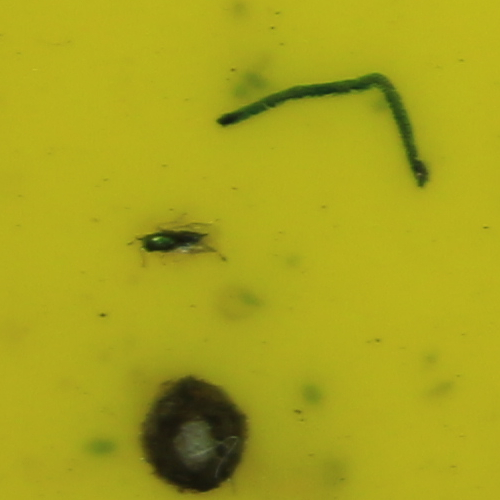Psyllaephagus: (141, 225, 211, 257)
